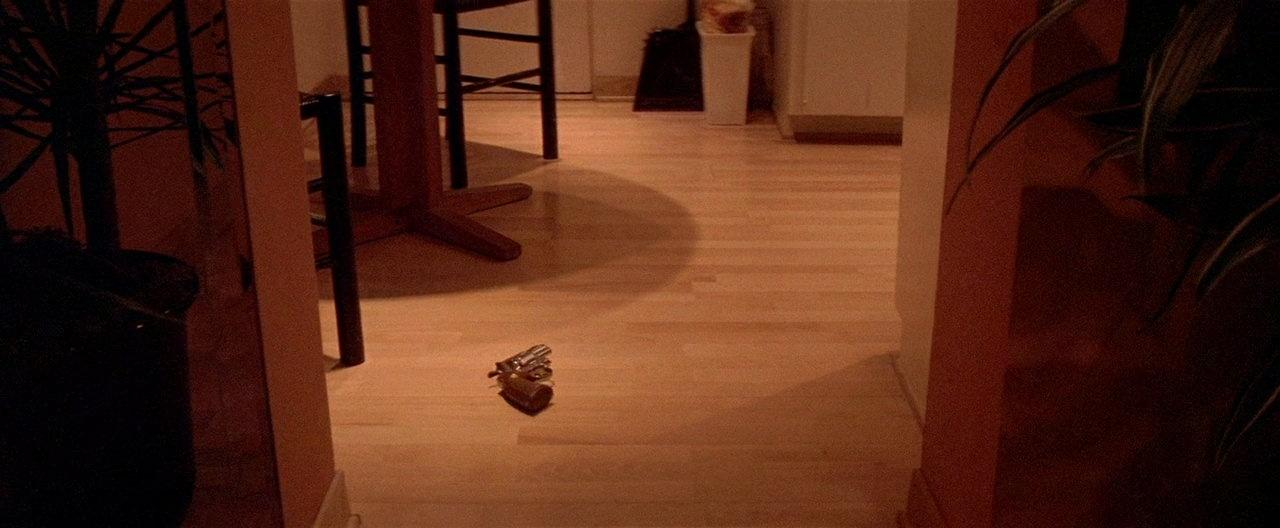gun: (492, 310, 595, 445)
